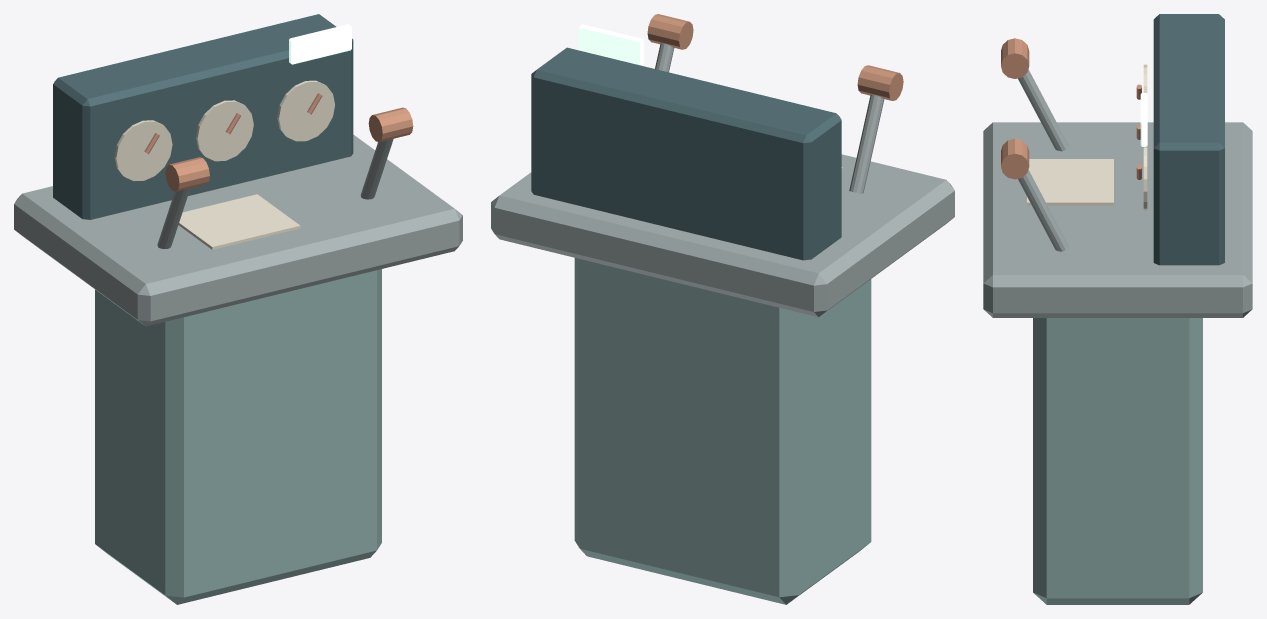
Rendered from helm.glb.
3 views of the same model, side by side, from view 1: azimuth 30°, elevation 25°; view 2: azimuth 150°, elevation 25°; view 3: azimuth 270°, elevation 25° (orthographic). The views are drawn at different scales.
Parts seen in each view (by area): view 1: helm; view 2: helm; view 3: helm.
Boxes of the visible parts, left/top/right/bottom form: helm: left=14, top=14, right=462, bottom=604; helm: left=491, top=14, right=954, bottom=604; helm: left=983, top=14, right=1252, bottom=604.
Bounding box in the file's own units: 0.96 × 1.38 × 0.68.
